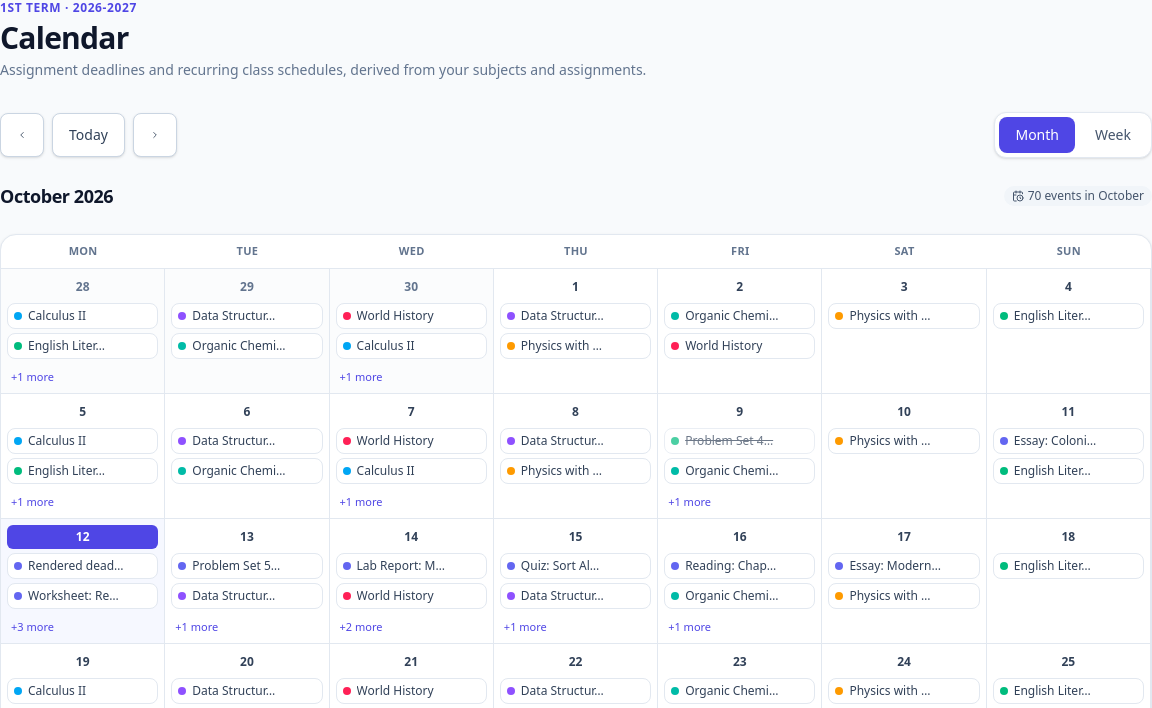
Test: calendar event details › shows assignment details, including progress
Click the button with aria-label "assignment due".
click(740, 440)  # box [664, 428, 815, 454]
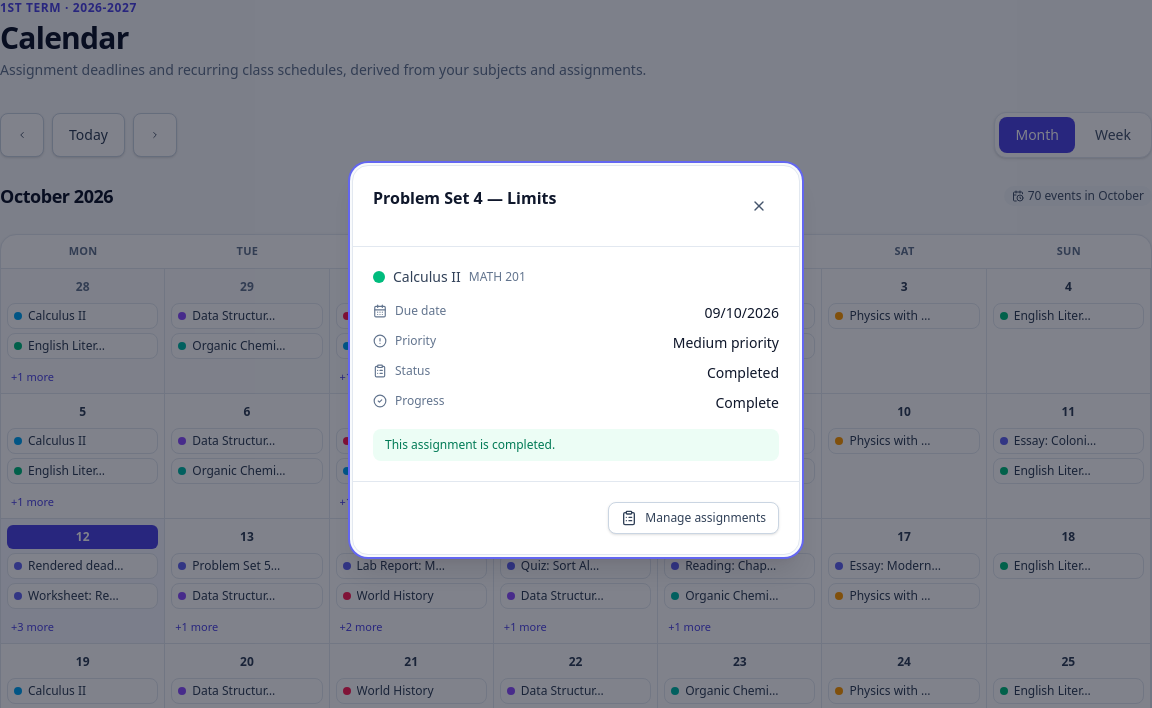
Expected: the text "Due date" is shown, [373, 303, 446, 319]
Expected: the text "Priority" is shown, [373, 333, 436, 349]
Expected: the text "Status" is shown, [373, 363, 430, 379]
